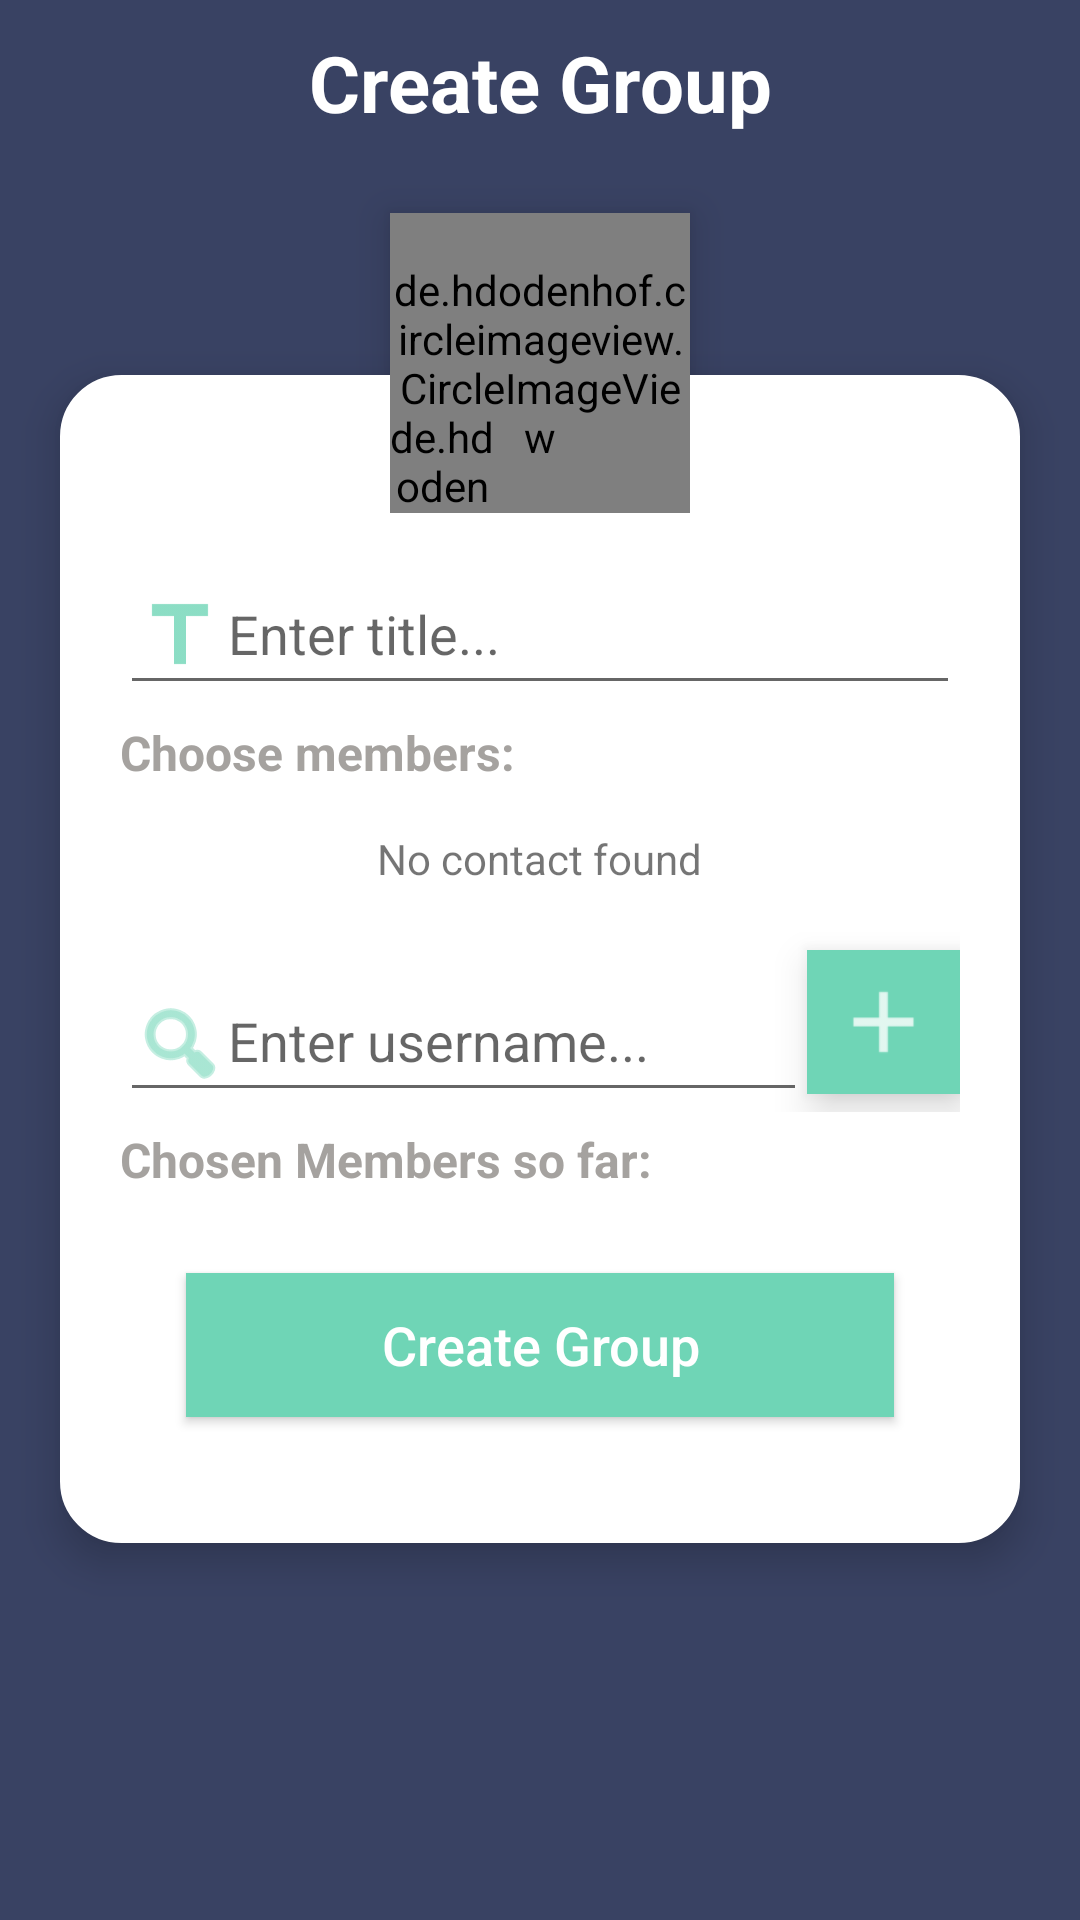

Icon click points for this 1080 × 1920 phone screenshot, format (x=x, y=y):
add contact: (x=883, y=1022)
